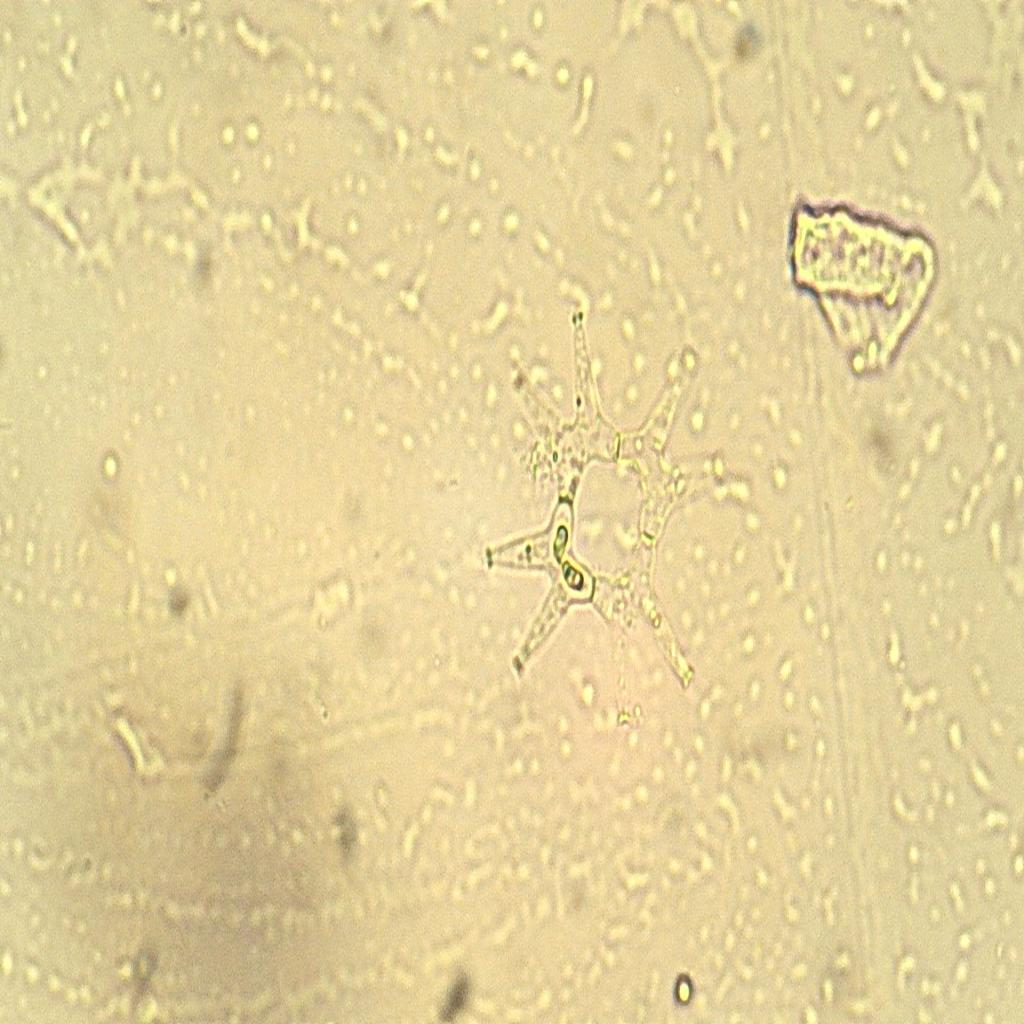Pediastrum_75TH: (454, 305, 759, 756)
